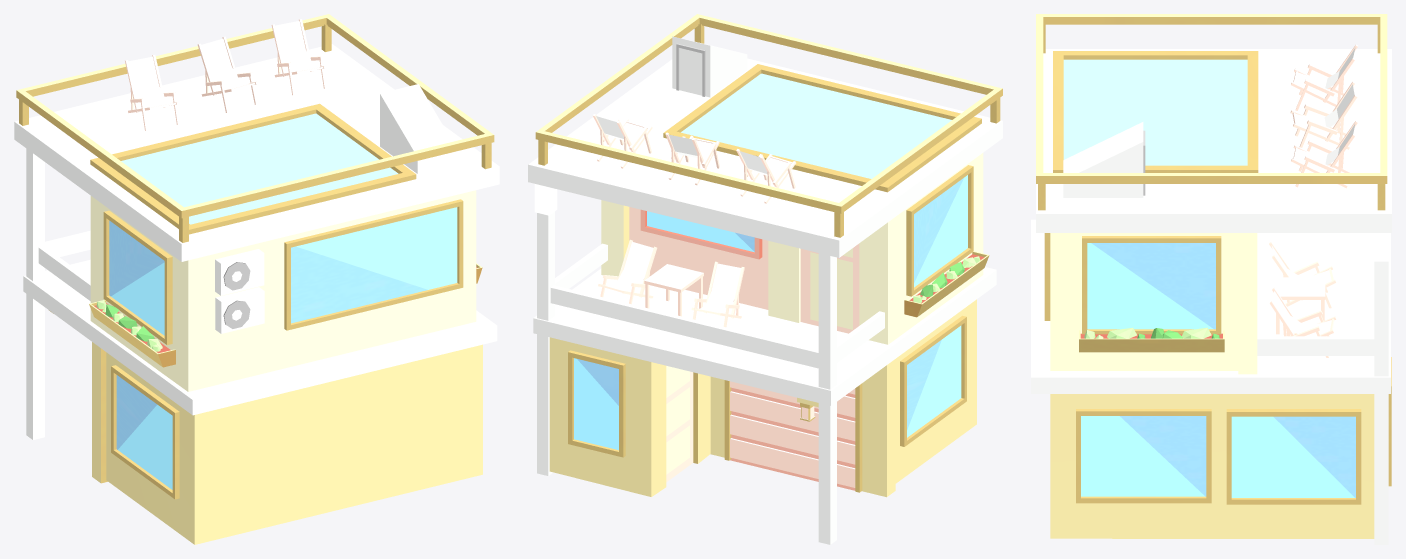
File: dwelling modern.glb
3 views of the same model, side by side, from view 1: azimuth 30°, elevation 25°; view 2: azimuth 150°, elevation 25°; view 3: azimuth 270°, elevation 25° (orthographic). The views are drawn at different scales.
Parts seen in each view (by area): view 1: dwelling modern(Clone); view 2: dwelling modern(Clone); view 3: dwelling modern(Clone).
Part boxes in pixels (box(x1,y1,x2,y2)): dwelling modern(Clone): box(14, 14, 499, 544); dwelling modern(Clone): box(528, 14, 1002, 544); dwelling modern(Clone): box(1031, 14, 1391, 544).
Bounding box in the file's own units: 6.67 × 7.2 × 6.02.
1 material, 1 textured.
